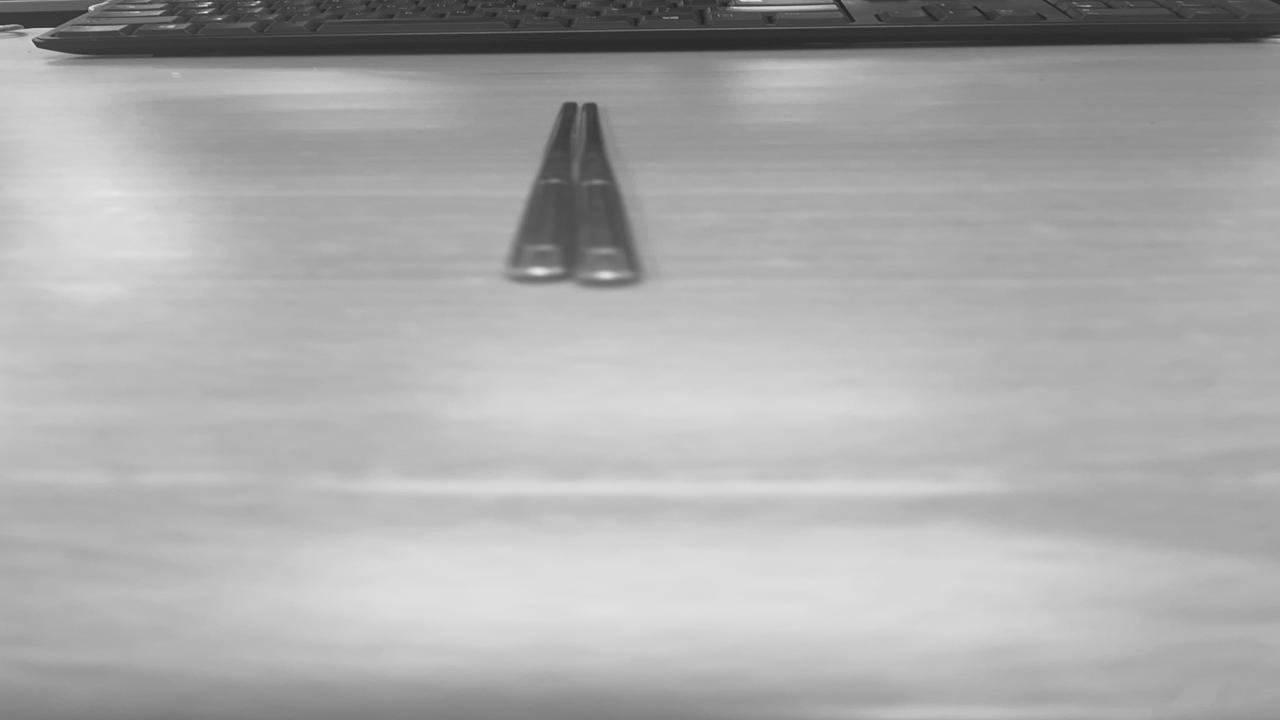chopstick: (514, 102, 631, 280)
